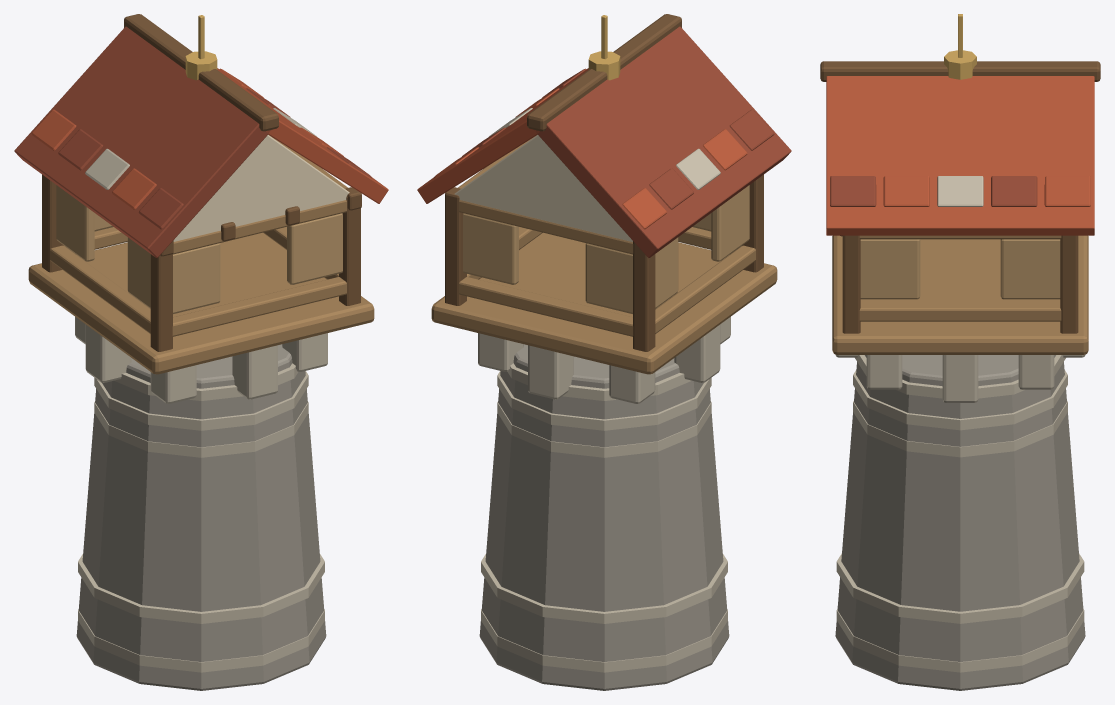
Rendered from watchtower.glb.
The picture shows the model from 3 angles, left to right: view 1: azimuth 30°, elevation 25°; view 2: azimuth 150°, elevation 25°; view 3: azimuth 270°, elevation 25°; orthographic projection.
Parts seen in each view (by area): view 1: Watchtower_Geometry; view 2: Watchtower_Geometry; view 3: Watchtower_Geometry.
Boxes of the visible parts, x1,y1,x2,y2 form: Watchtower_Geometry: (14,14,388,690); Watchtower_Geometry: (417,14,791,690); Watchtower_Geometry: (820,14,1100,690).
Size of the model in its own units: 1.87 by 4.62 by 1.88.
